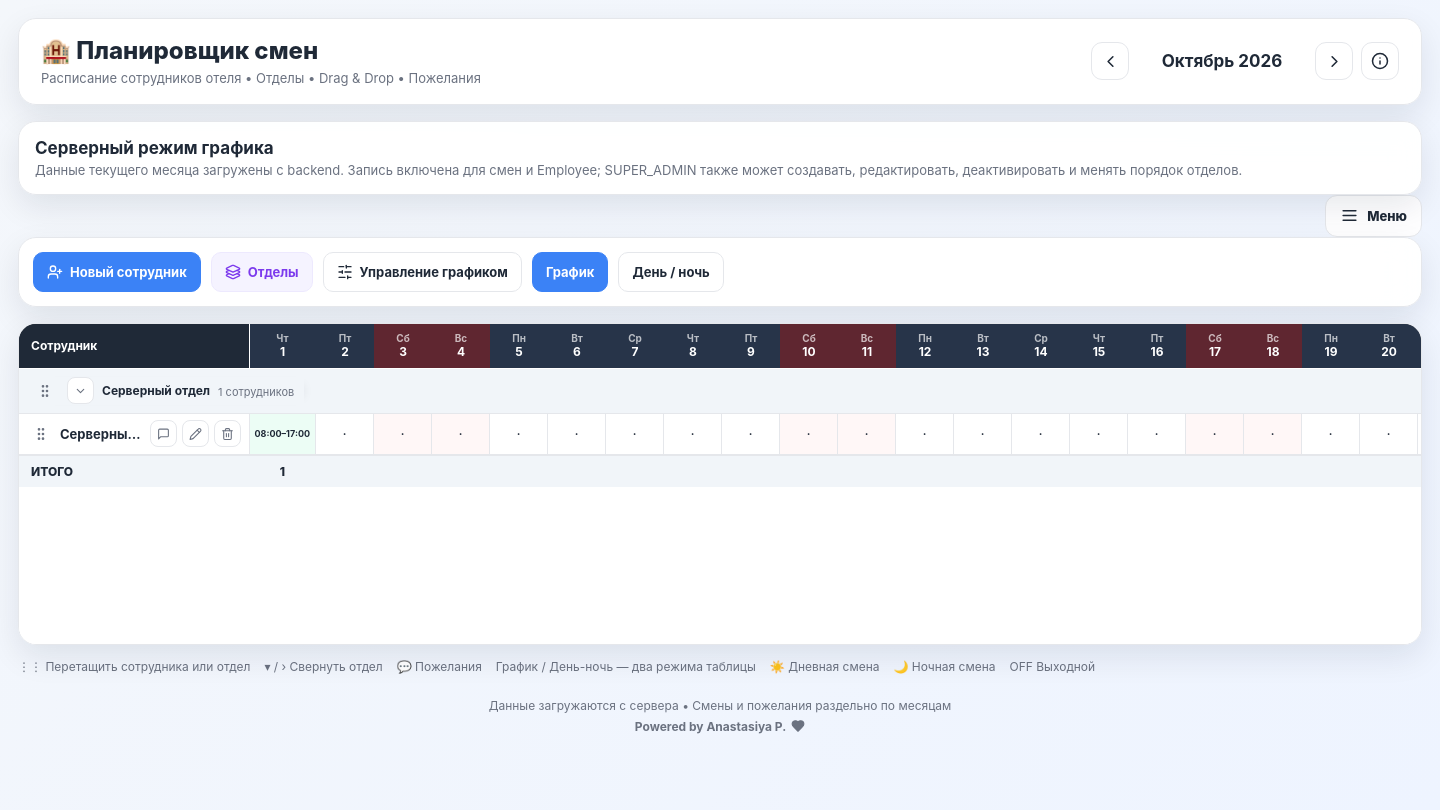
Test: App regression flows › shows inline validation when Employee name is empty
Expected: the text "Серверный сотрудник" is shown, [60, 426, 144, 442]
Click the button "Новый сотрудник".
click(117, 272)  # box [33, 252, 201, 292]
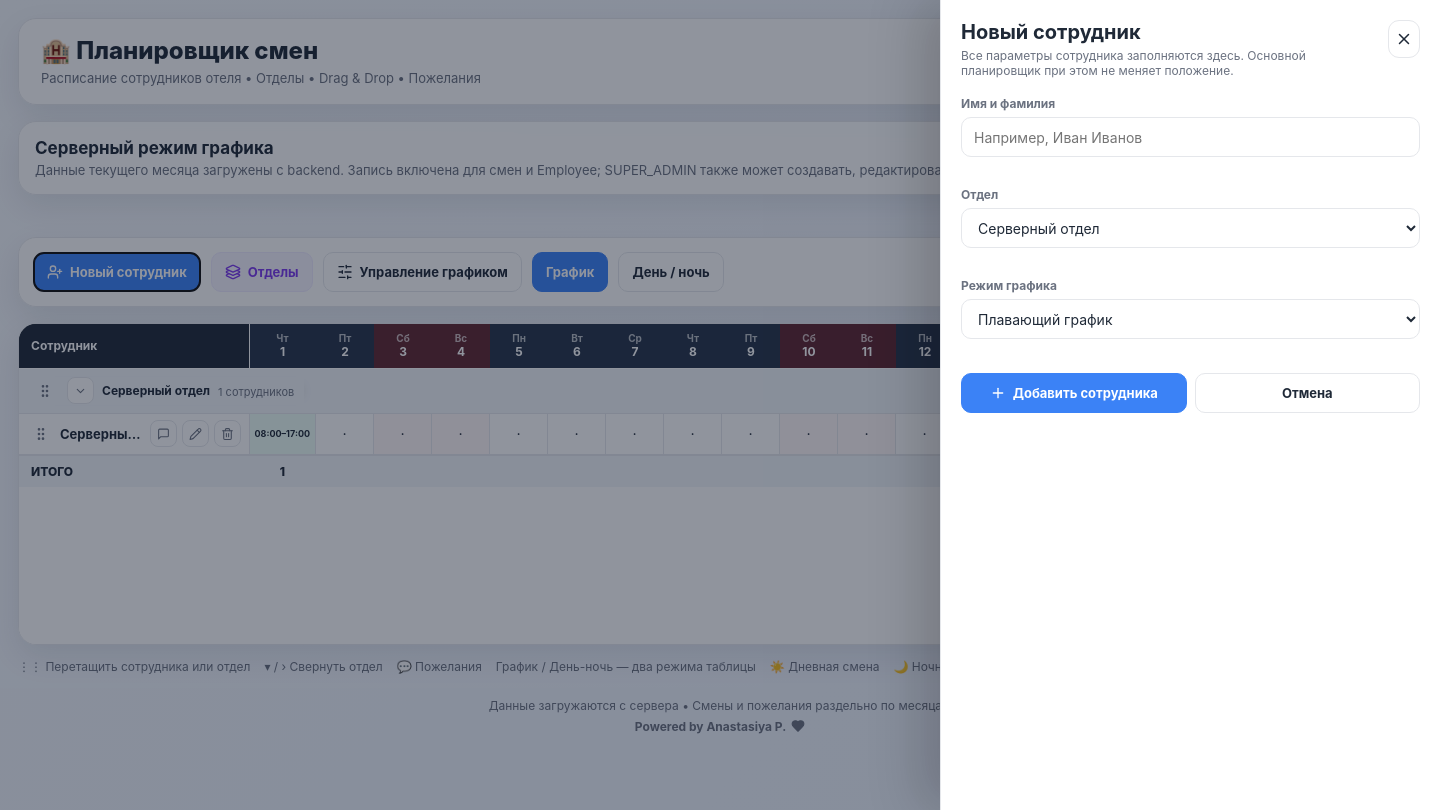
Click the button "Добавить сотрудника".
click(1074, 393)  # box [961, 373, 1186, 413]
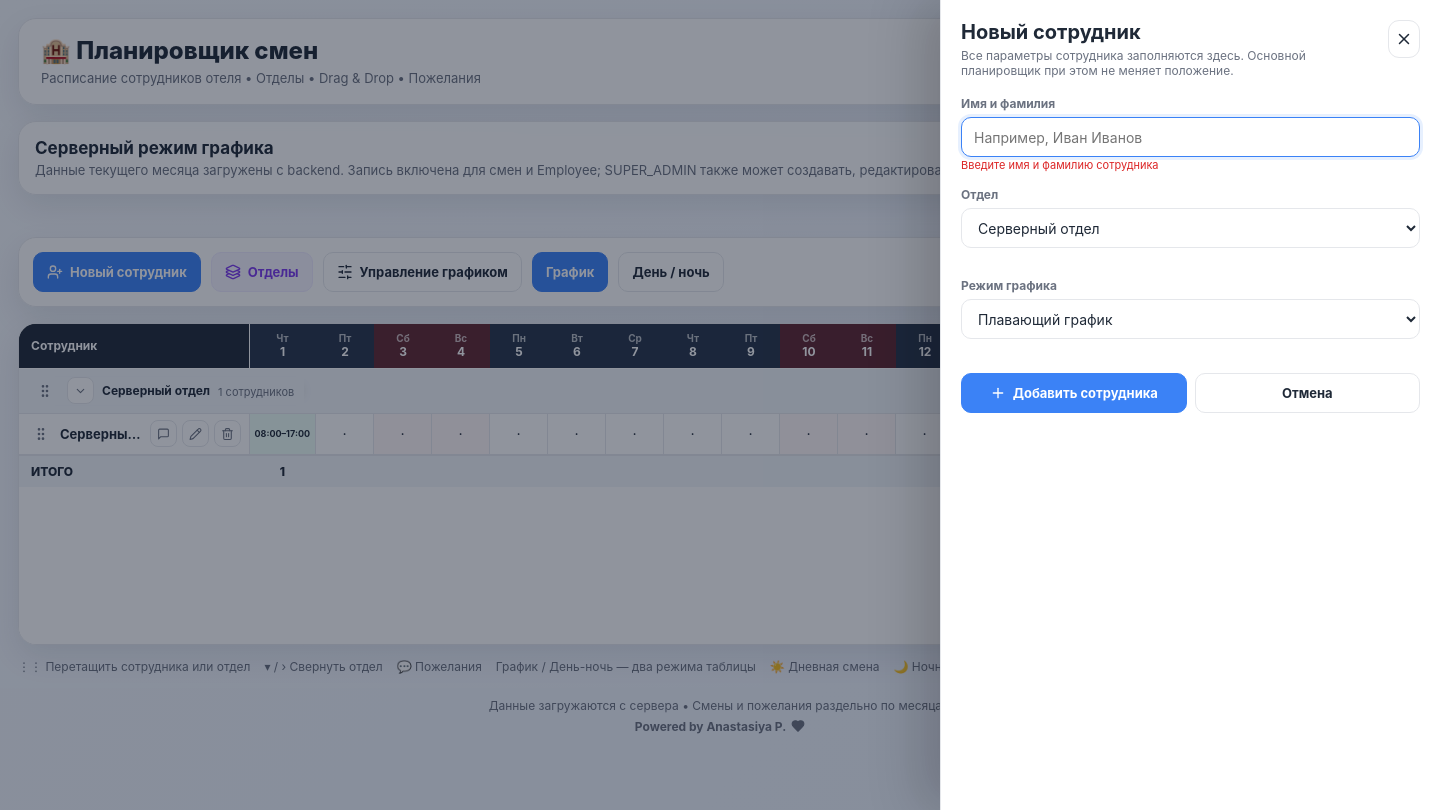
Now the text "Введите имя и фамилию сотрудника" is shown, box [961, 158, 1158, 172]
